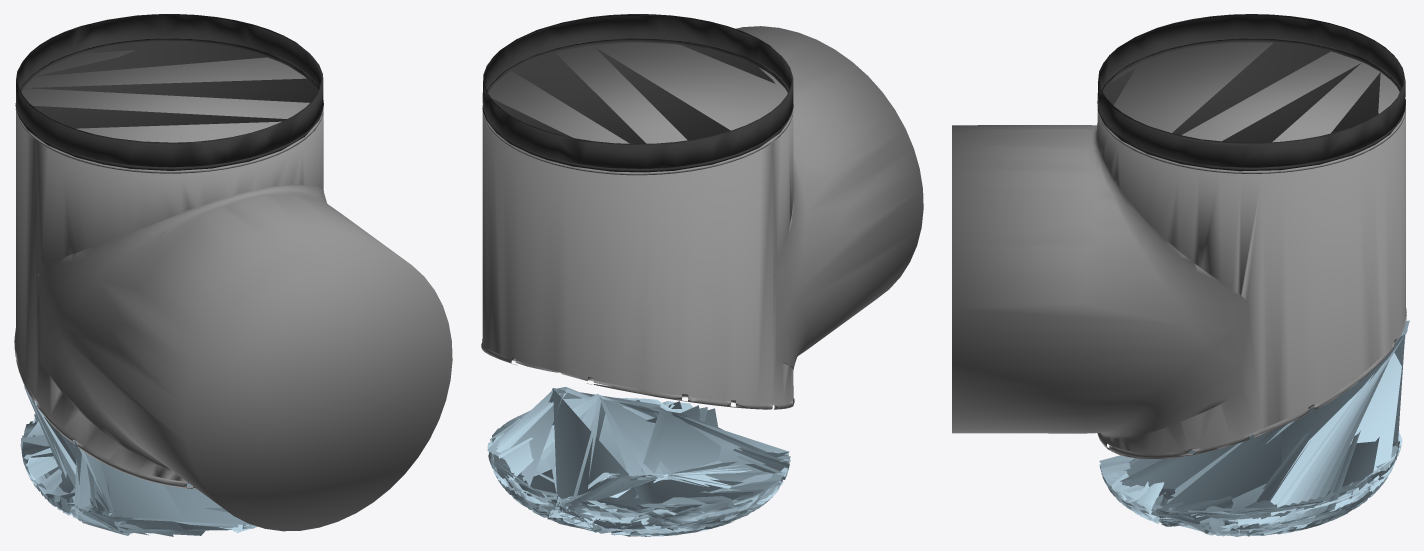
The model's file is wrist1.dae.
3 views of the same model, side by side, from view 1: azimuth 30°, elevation 25°; view 2: azimuth 150°, elevation 25°; view 3: azimuth 270°, elevation 25° (orthographic).
Parts seen in each view (by area): view 1: eSeries_UR5e_043, eSeries_UR5e_027, eSeries_UR5e_026; view 2: eSeries_UR5e_043, eSeries_UR5e_026, eSeries_UR5e_027; view 3: eSeries_UR5e_043, eSeries_UR5e_026, eSeries_UR5e_027.
Part boxes in pixels (bbox=[...]): eSeries_UR5e_043: bbox=[14, 42, 452, 531]; eSeries_UR5e_027: bbox=[15, 14, 323, 170]; eSeries_UR5e_026: bbox=[20, 385, 257, 536]; eSeries_UR5e_043: bbox=[481, 26, 923, 409]; eSeries_UR5e_026: bbox=[487, 387, 790, 536]; eSeries_UR5e_027: bbox=[482, 14, 793, 172]; eSeries_UR5e_043: bbox=[952, 42, 1406, 459]; eSeries_UR5e_026: bbox=[1099, 320, 1409, 536]; eSeries_UR5e_027: bbox=[1097, 14, 1405, 171].
Size of the model in its own units: 0.0757 by 0.1113 by 0.1099.
